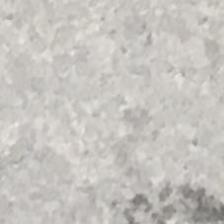Non_Crack: (25, 35, 224, 157)
